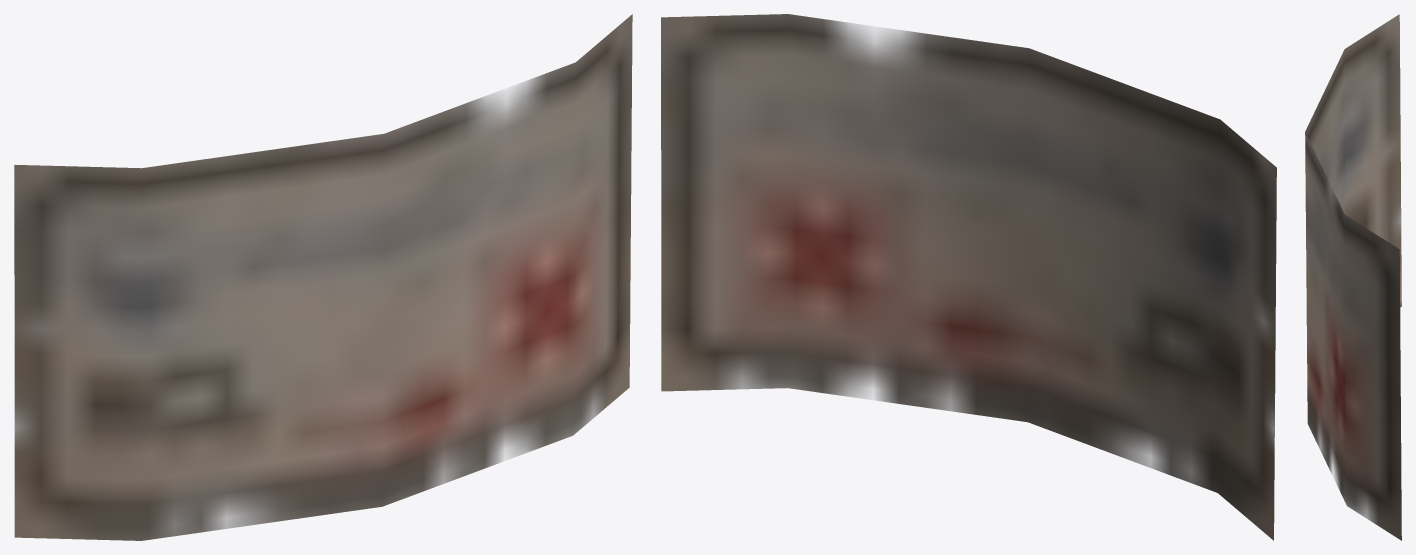
The model's file is bottle_label_d.glb.
3 views of the same model, side by side, from view 1: azimuth 30°, elevation 25°; view 2: azimuth 150°, elevation 25°; view 3: azimuth 270°, elevation 25° (orthographic). The views are drawn at different scales.
Parts seen in each view (by area): view 1: chemistry_set_bottle_label_d.001; view 2: chemistry_set_bottle_label_d.001; view 3: chemistry_set_bottle_label_d.001.
Boxes of the visible parts, box(x1,y1,x2,y2) form: chemistry_set_bottle_label_d.001: box(14, 14, 632, 540); chemistry_set_bottle_label_d.001: box(661, 14, 1276, 540); chemistry_set_bottle_label_d.001: box(1305, 14, 1401, 540).
Bounding box in the file's own units: 0.027 × 0.0156 × 0.00468.
1 material, 1 textured.
